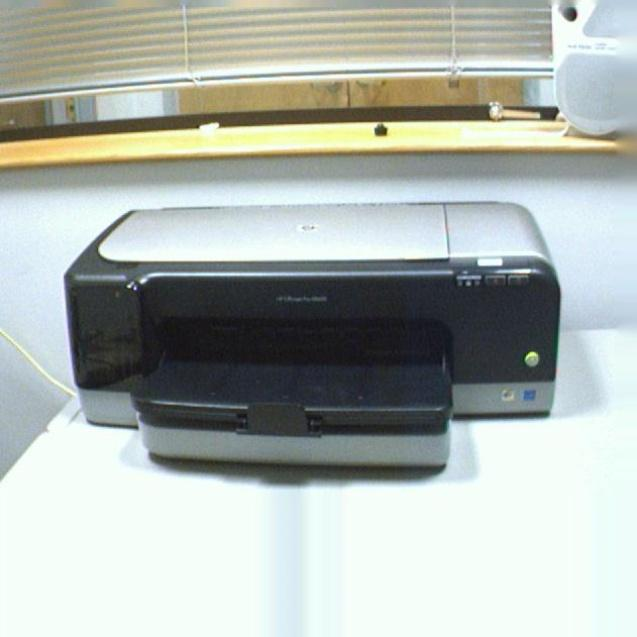Printer: (64, 199, 559, 467)
